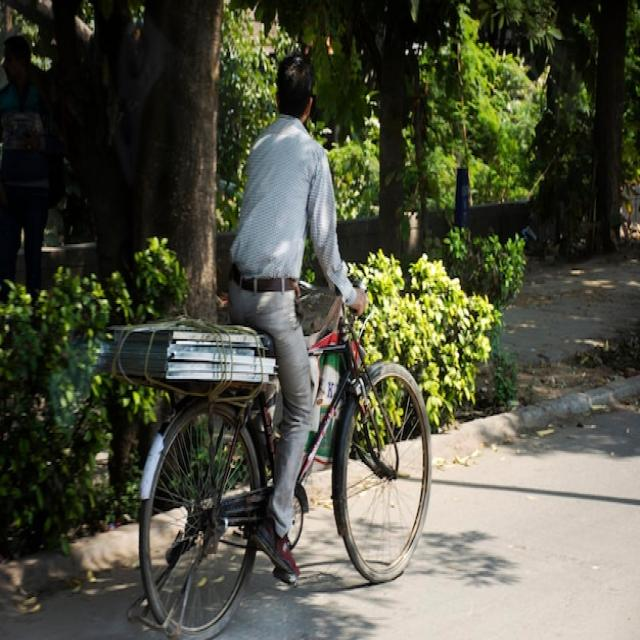bicycle: (99, 53, 431, 637)
